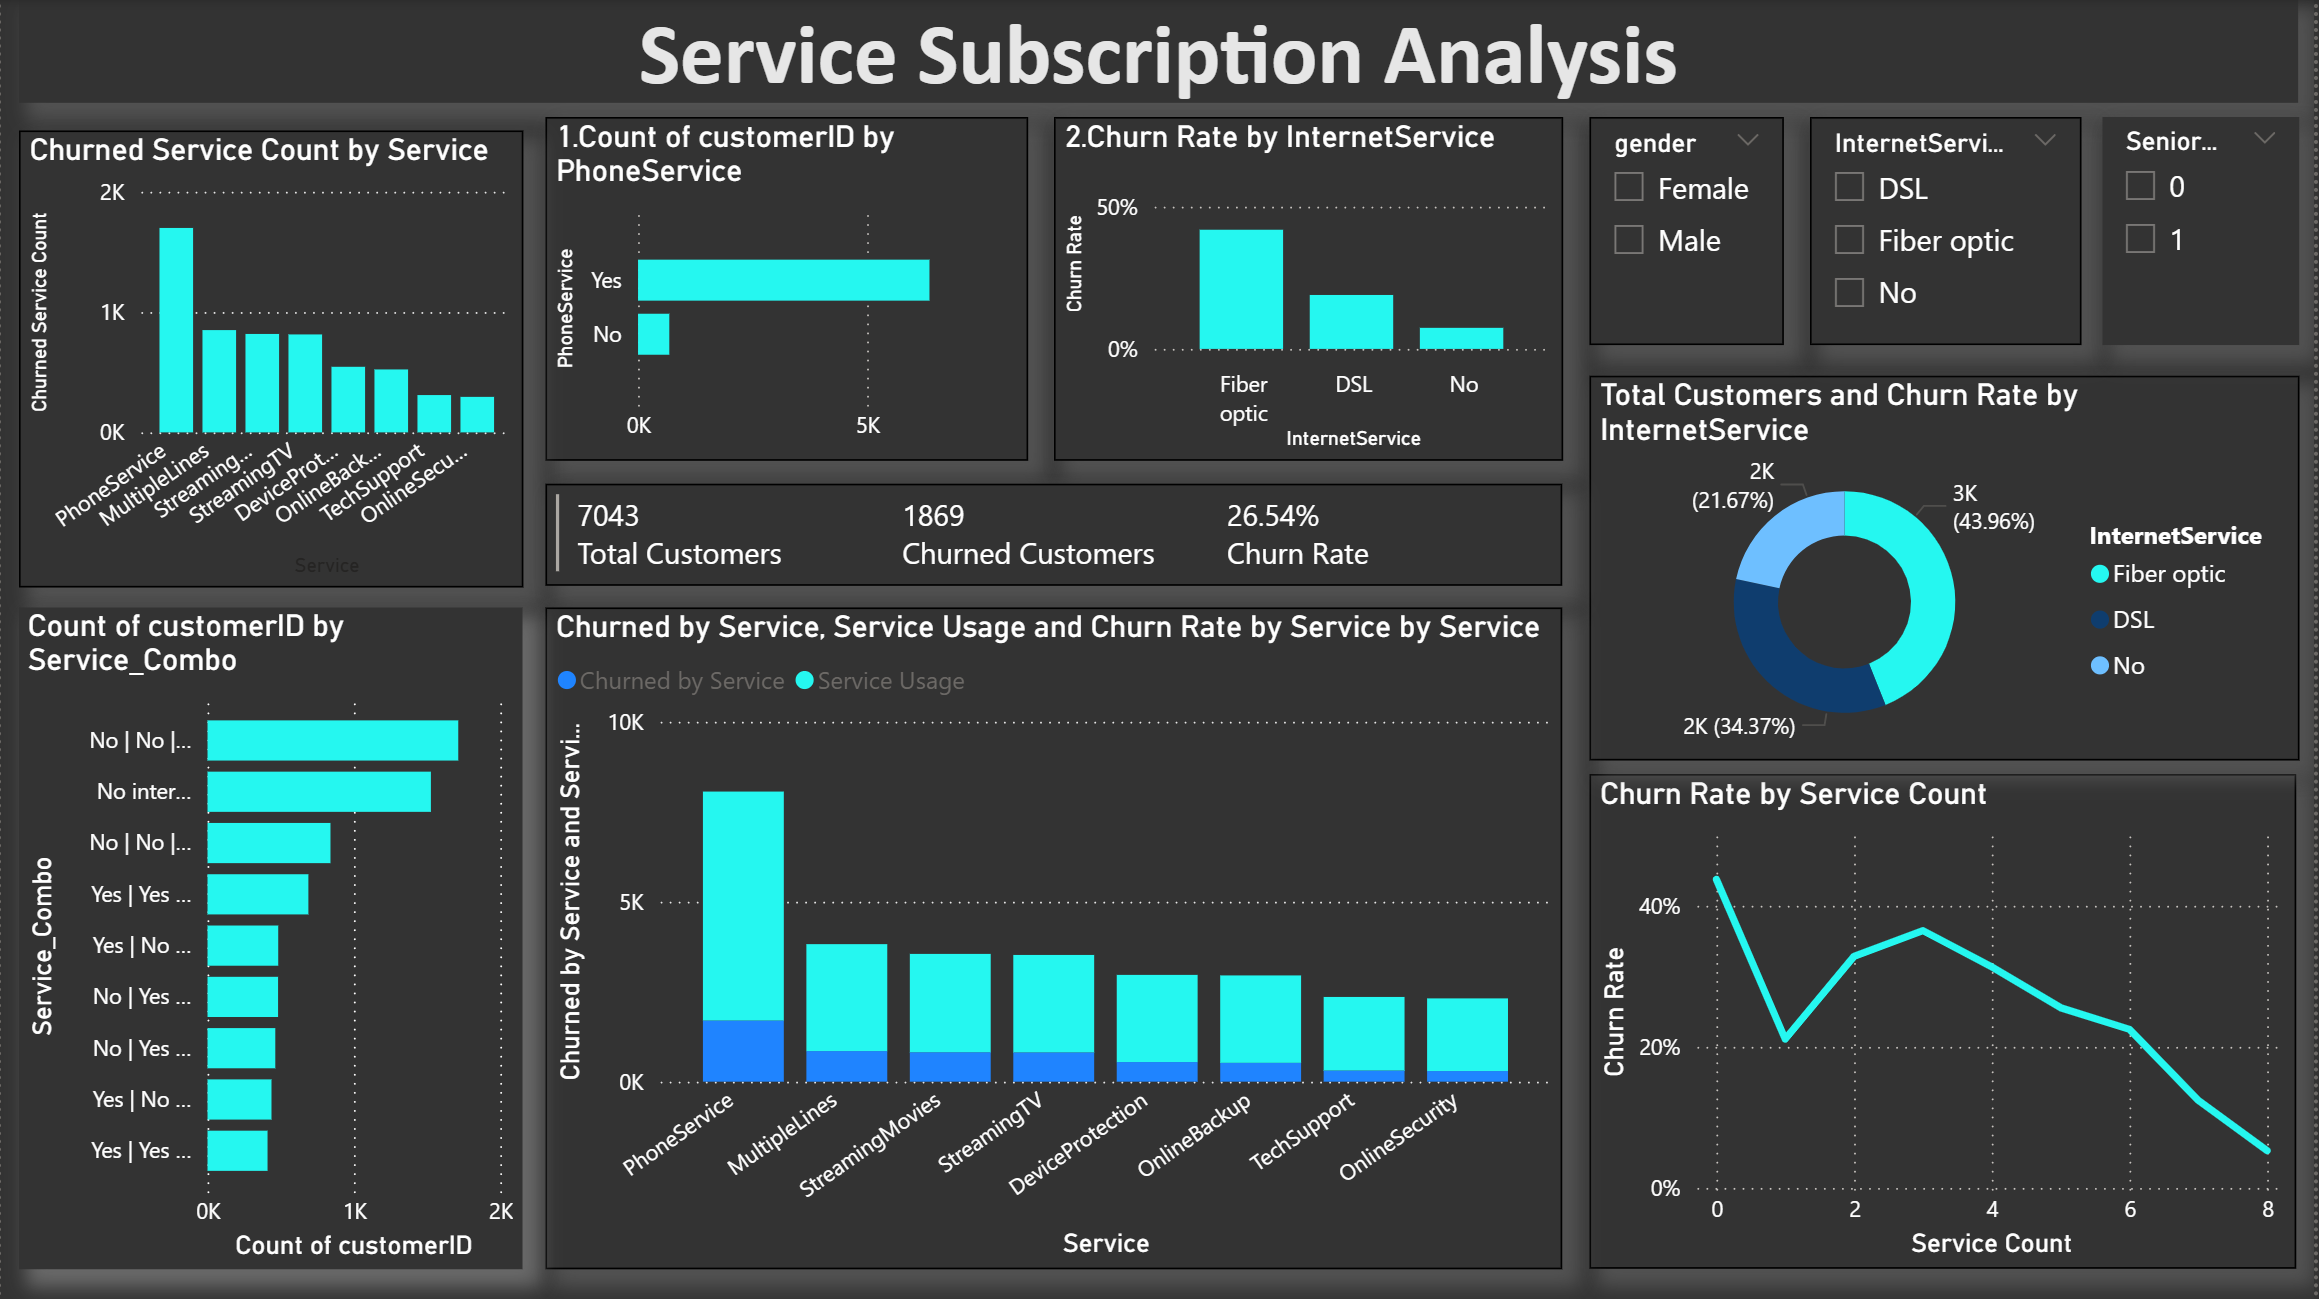

This screenshot's page, from the dashboard's own definition file:
{"tool":"powerbi","page":{"name":"Page 2","canvas":[1280,720],"ordinal":1},"visuals":[{"type":"textbox","title":"Service Subscription Analysis","box":[9.4,0,1261.2,57.1],"z":0},{"type":"barChart","title":"1. Phone Service Usage","fields":{"Category":["WA_Fn-UseC_-Telco-Customer-Churn.PhoneService"],"Y":["CountNonNull(WA_Fn-UseC_-Telco-Customer-Churn.customerID)"]},"box":[300.9,64.5,267.3,190],"z":1000},{"type":"columnChart","title":"6. Internet Churn Rate","fields":{"Y":["WA_Fn-UseC_-Telco-Customer-Churn.Churn Rate"],"Category":["WA_Fn-UseC_-Telco-Customer-Churn.InternetService"]},"box":[582.7,64.5,281.8,190],"z":2000},{"type":"columnChart","title":"3. Add-On Service Churn","fields":{"Category":["Services.Service"],"Y":["Services.Churned Service Count"]},"box":[10,64.8,278.9,260.2],"z":3000},{"type":"lineChart","title":"4. Churn Rate by Service Count","fields":{"Category":["WA_Fn-UseC_-Telco-Customer-Churn.Service Count"],"Y":["WA_Fn-UseC_-Telco-Customer-Churn.Churn Rate"]},"box":[878.8,428.8,391.2,273.8],"z":4000},{"type":"donutChart","title":"2. Internet Churn Rate","fields":{"Y":["WA_Fn-UseC_-Telco-Customer-Churn.Total Customers"],"Category":["WA_Fn-UseC_-Telco-Customer-Churn.InternetService"]},"box":[878.7,208,392.7,212.7],"z":5000},{"type":"multiRowCard","fields":{"Values":["WA_Fn-UseC_-Telco-Customer-Churn.Total Customers","WA_Fn-UseC_-Telco-Customer-Churn.Churned Customers","WA_Fn-UseC_-Telco-Customer-Churn.Churn Rate"]},"box":[300.9,268.2,562.7,56.4],"z":6000},{"type":"slicer","fields":{"Values":["WA_Fn-UseC_-Telco-Customer-Churn.gender"]},"box":[878.8,65,107.5,126.2],"z":7000},{"type":"slicer","fields":{"Values":["WA_Fn-UseC_-Telco-Customer-Churn.Contract"]},"box":[524.7,470.4,231,164.2],"z":8000},{"type":"slicer","fields":{"Values":["WA_Fn-UseC_-Telco-Customer-Churn.InternetService"]},"box":[1001.2,65,150,126.2],"z":9000},{"type":"columnChart","title":"3. Add-On Service Churn","fields":{"Y":["Services.Churned by Service","Services.Service Usage"],"Category":["Services.Service"]},"box":[301.3,336.2,562.8,366.1],"z":10000},{"type":"slicer","fields":{"Values":["WA_Fn-UseC_-Telco-Customer-Churn.SeniorCitizen"]},"box":[1162.5,65,108.8,126.2],"z":11000},{"type":"clusteredBarChart","title":"5. Service Combo Churn","fields":{"Category":["WA_Fn-UseC_-Telco-Customer-Churn.Service_Combo"],"Y":["CountNonNull(WA_Fn-UseC_-Telco-Customer-Churn.customerID)"]},"box":[10,336.2,278.9,366.1],"z":12000}]}

Visuals, with their boxes in screenshot pixels (x1, y1, x2, y2), scaled from the page's 1280x720 canvas onto the 2319x1299 screenshot:
"Service Subscription Analysis" textbox: (17, 0, 2302, 103)
"1. Phone Service Usage" barChart: (545, 116, 1029, 459)
"6. Internet Churn Rate" columnChart: (1056, 116, 1566, 459)
"3. Add-On Service Churn" columnChart: (18, 117, 523, 586)
"4. Churn Rate by Service Count" lineChart: (1592, 774, 2301, 1268)
"2. Internet Churn Rate" donutChart: (1592, 375, 2303, 759)
multiRowCard - WA_Fn-UseC_-Telco-Customer-Churn.Total Customers x WA_Fn-UseC_-Telco-Customer-Churn.Churned Customers: (545, 484, 1565, 586)
slicer - WA_Fn-UseC_-Telco-Customer-Churn.gender: (1592, 117, 1787, 345)
slicer - WA_Fn-UseC_-Telco-Customer-Churn.Contract: (951, 849, 1369, 1145)
slicer - WA_Fn-UseC_-Telco-Customer-Churn.InternetService: (1814, 117, 2086, 345)
"3. Add-On Service Churn" columnChart: (546, 607, 1566, 1267)
slicer - WA_Fn-UseC_-Telco-Customer-Churn.SeniorCitizen: (2106, 117, 2303, 345)
"5. Service Combo Churn" clusteredBarChart: (18, 607, 523, 1267)
